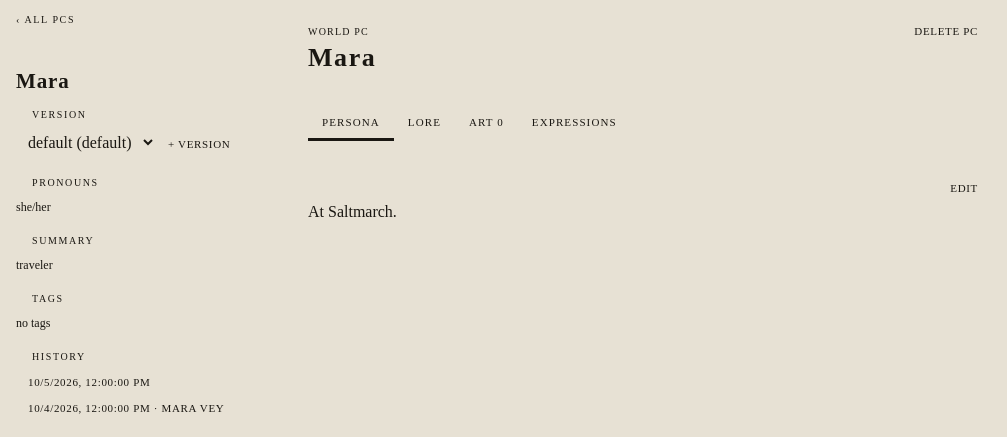
history lists earlier texts, previews one read-only, and restores it
Check: the heading "Mara" below "World PC" is shown, box [308,44,376,72]
a row whose text held another name says so
Click the button "10/4/2026, 12:00:00 PM · Mara Vey": [137, 408] box [16,396,258,420]
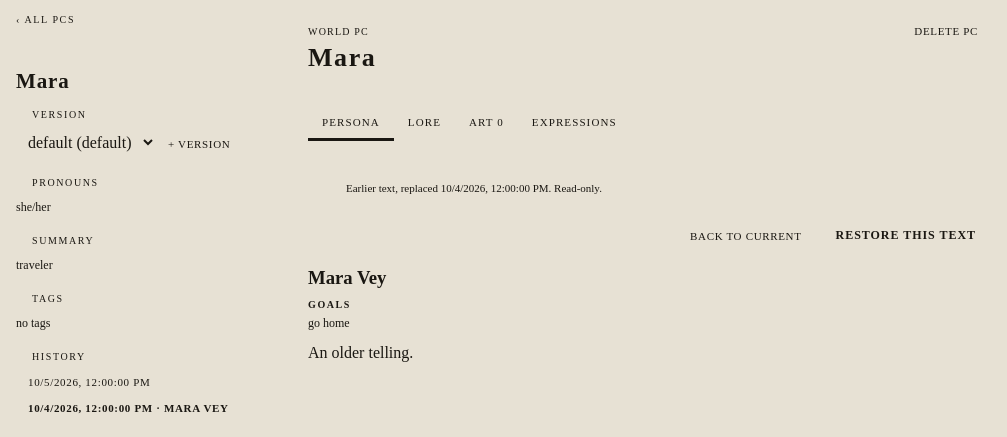
Check: the text "An older telling." is shown, box [308,344,413,361]
Check: the text "go home" is shown, box [308,316,350,330]
Check: the text "At Saltmarch." is gone
Click the button "Restore this text": [906, 236] box [822,220,990,251]
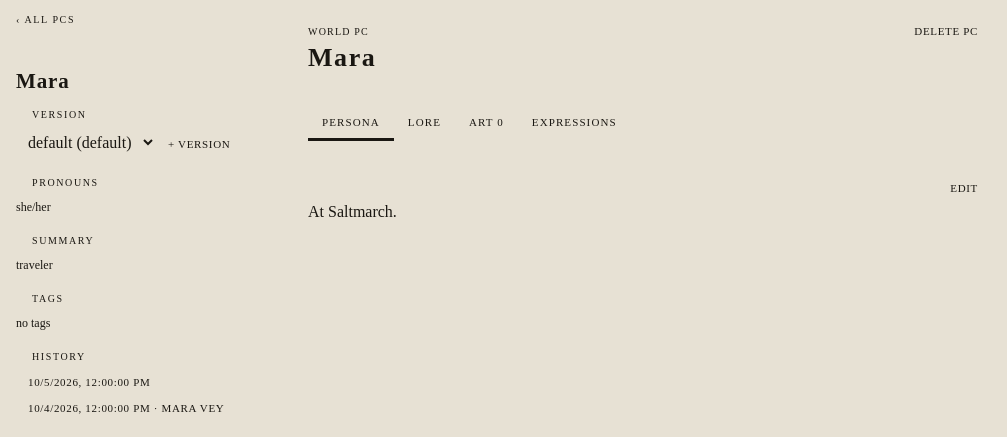
Check: the text "At Saltmarch." is shown, box [308,203,397,220]
